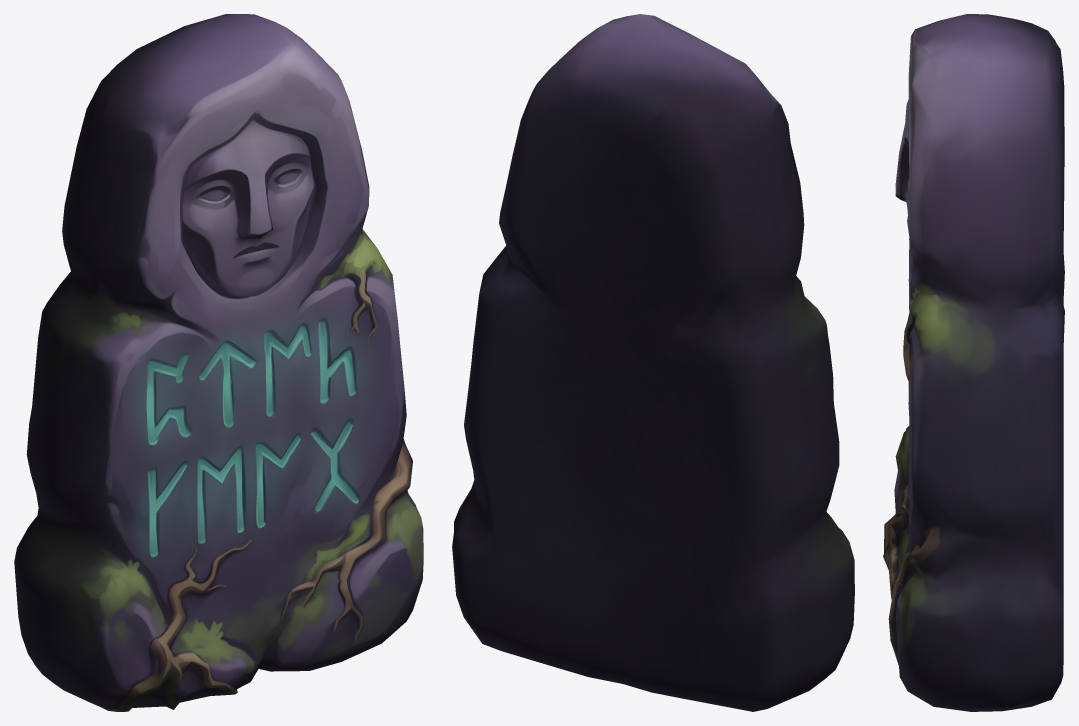
File: prop_totem_stone.glb
3 views of the same model, side by side, from view 1: azimuth 30°, elevation 25°; view 2: azimuth 150°, elevation 25°; view 3: azimuth 270°, elevation 25° (orthographic).
Parts seen in each view (by area): view 1: tripo_node_30dff081-f972-4c1a-a0bc-ce77038fcd5a; view 2: tripo_node_30dff081-f972-4c1a-a0bc-ce77038fcd5a; view 3: tripo_node_30dff081-f972-4c1a-a0bc-ce77038fcd5a.
Part boxes in pixels (x1,y1,x2,y2): tripo_node_30dff081-f972-4c1a-a0bc-ce77038fcd5a: (14,14,423,711); tripo_node_30dff081-f972-4c1a-a0bc-ce77038fcd5a: (452,14,854,711); tripo_node_30dff081-f972-4c1a-a0bc-ce77038fcd5a: (883,14,1064,711).
Bounding box in the file's own units: 0.613 × 1 × 0.2623.
1 material, 1 textured.
